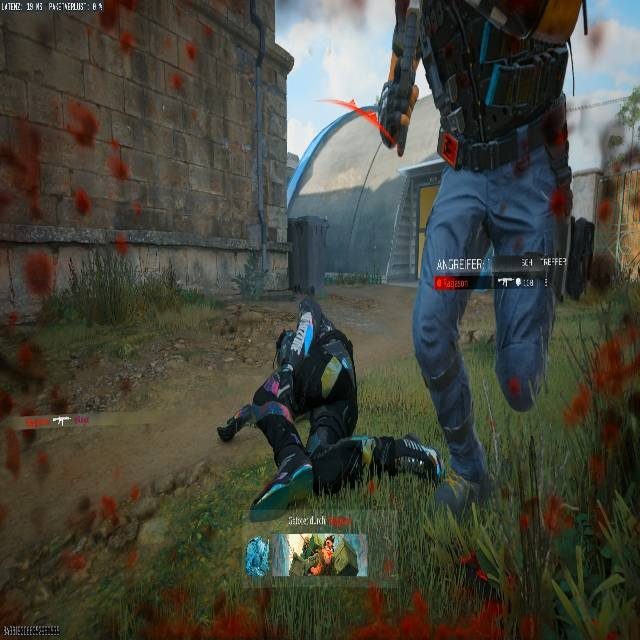player: (281, 0, 580, 528), (303, 535, 335, 575)
